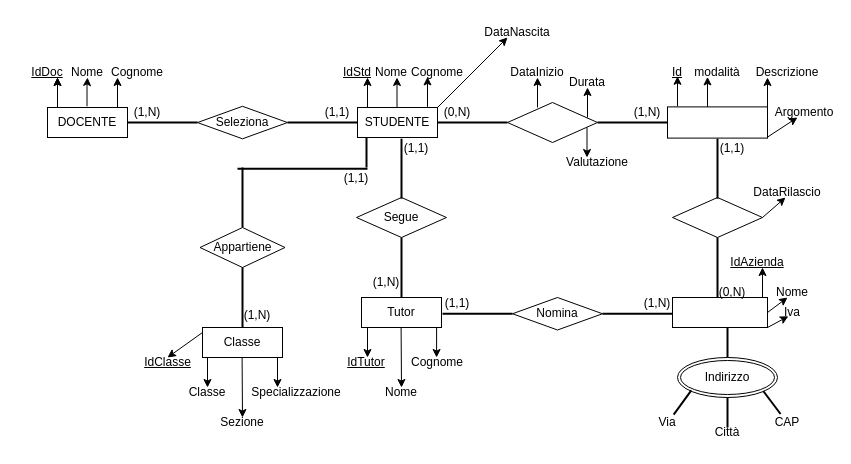
The diagram is 851 pixels wide and 464 high, and some of its shapes have lost their labels. The shapes that lost their labels are listed below. From the top down, each one's centre as x and y in pixels, then its label:
the point at 552,122: Partecipa
the point at 717,122: Attività Formativa
the point at 717,217: Effettua
the point at 720,312: Azienda
